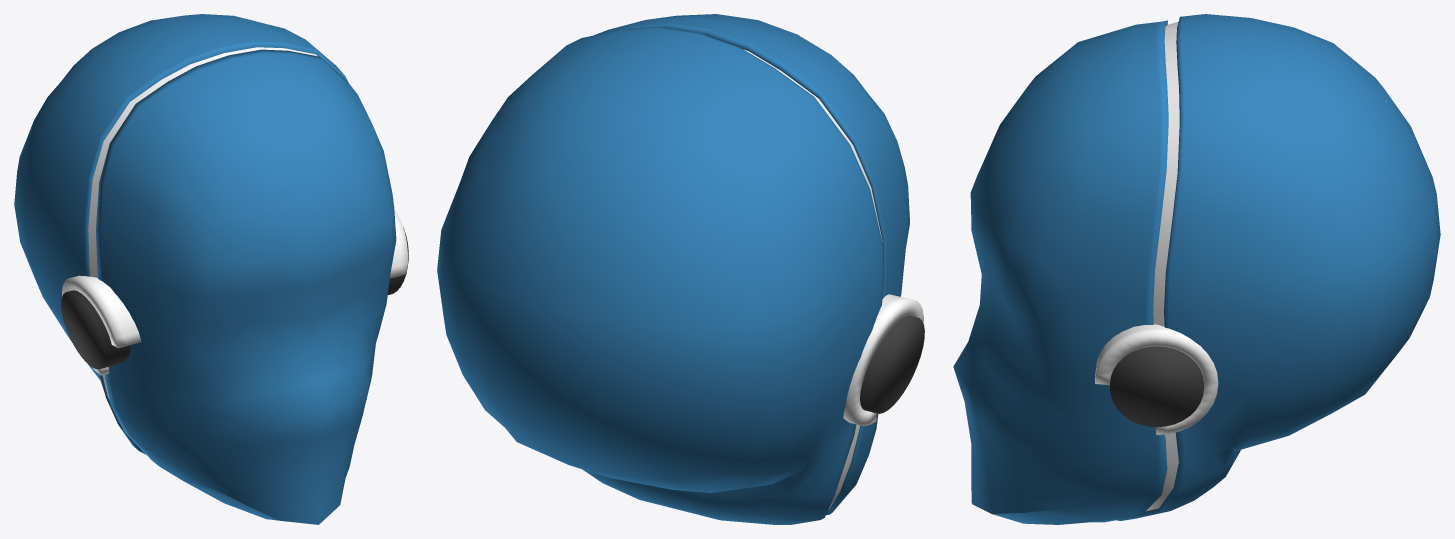
File: head.glb
3 views of the same model, side by side, from view 1: azimuth 30°, elevation 25°; view 2: azimuth 150°, elevation 25°; view 3: azimuth 270°, elevation 25° (orthographic). The views are drawn at different scales.
Visible parts, largest first — view 1: body.001; view 2: body.001; view 3: body.001.
Part boxes in pixels (bbox=[...]): body.001: bbox=[14, 14, 408, 524]; body.001: bbox=[437, 14, 924, 524]; body.001: bbox=[953, 14, 1440, 524].
Bounding box in the file's own units: 0.2151 × 0.2719 × 0.2524.
